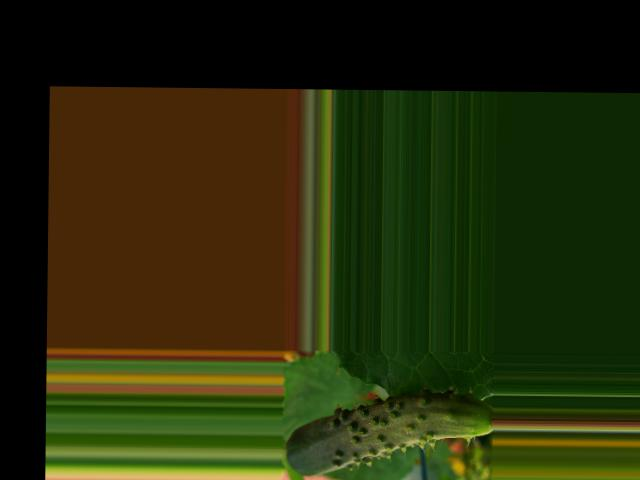cucumber: (284, 387, 492, 477)
